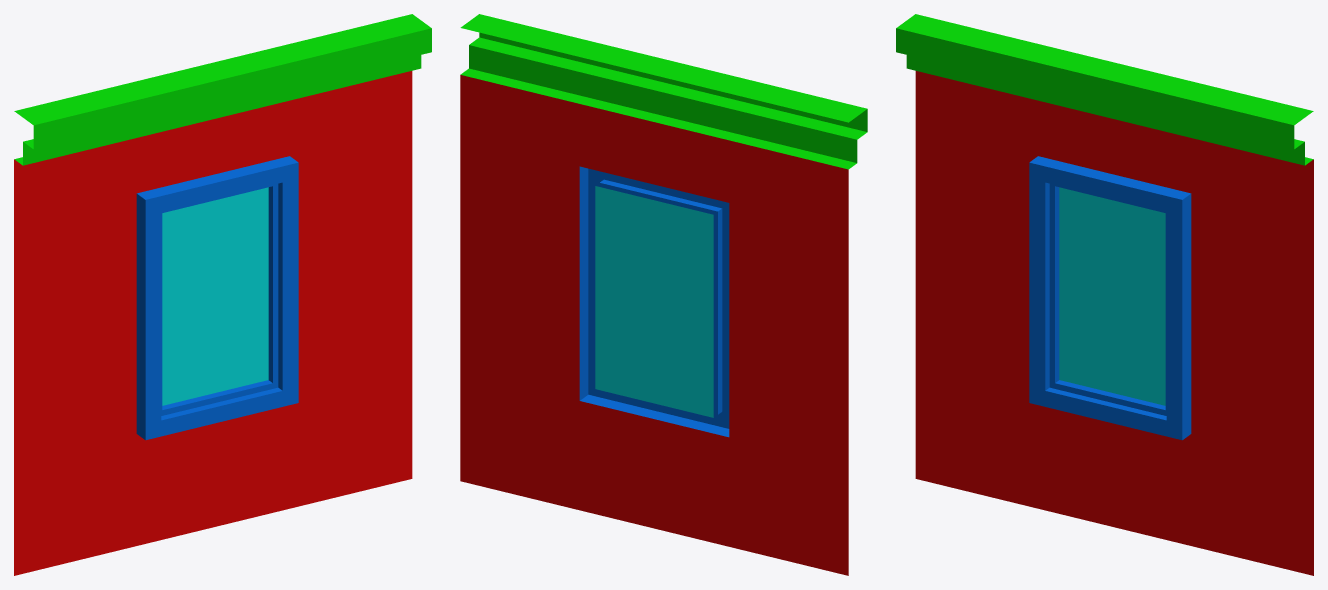
Rendered from Wall_Window.fbx.
3 renders of one model, left to right at view 1: azimuth 30°, elevation 25°; view 2: azimuth 150°, elevation 25°; view 3: azimuth 330°, elevation 25°, orthographic. The views are drawn at different scales.
Parts seen in each view (by area): view 1: Build_1_Wall_Window; view 2: Build_1_Wall_Window; view 3: Build_1_Wall_Window.
Boxes of the visible parts, x1,y1,x2,y2 form: Build_1_Wall_Window: [14, 14, 431, 575]; Build_1_Wall_Window: [460, 14, 867, 575]; Build_1_Wall_Window: [896, 14, 1313, 575].
Size of the model in its own units: 260 by 22 by 290.
